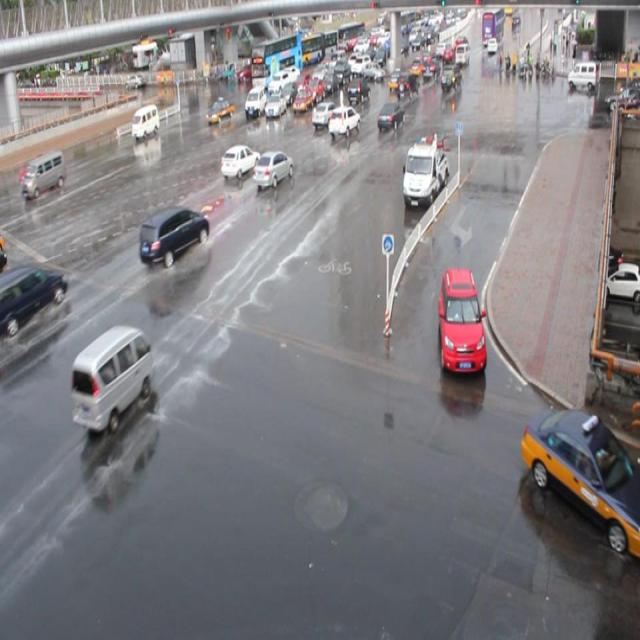bus: (401, 135, 448, 204)
car: (520, 402, 640, 553), (436, 266, 486, 374), (138, 204, 210, 268), (1, 262, 67, 327), (252, 150, 293, 188), (220, 145, 260, 179), (18, 152, 51, 185), (328, 106, 360, 138), (376, 102, 404, 130), (205, 96, 234, 123), (311, 101, 340, 127), (394, 70, 419, 99), (346, 78, 370, 103), (264, 90, 286, 116), (268, 70, 290, 96), (291, 85, 312, 112), (305, 75, 324, 99), (279, 79, 298, 101), (292, 70, 310, 92)
truck: (69, 324, 152, 432), (20, 149, 66, 198), (132, 104, 160, 138), (248, 84, 270, 115)
